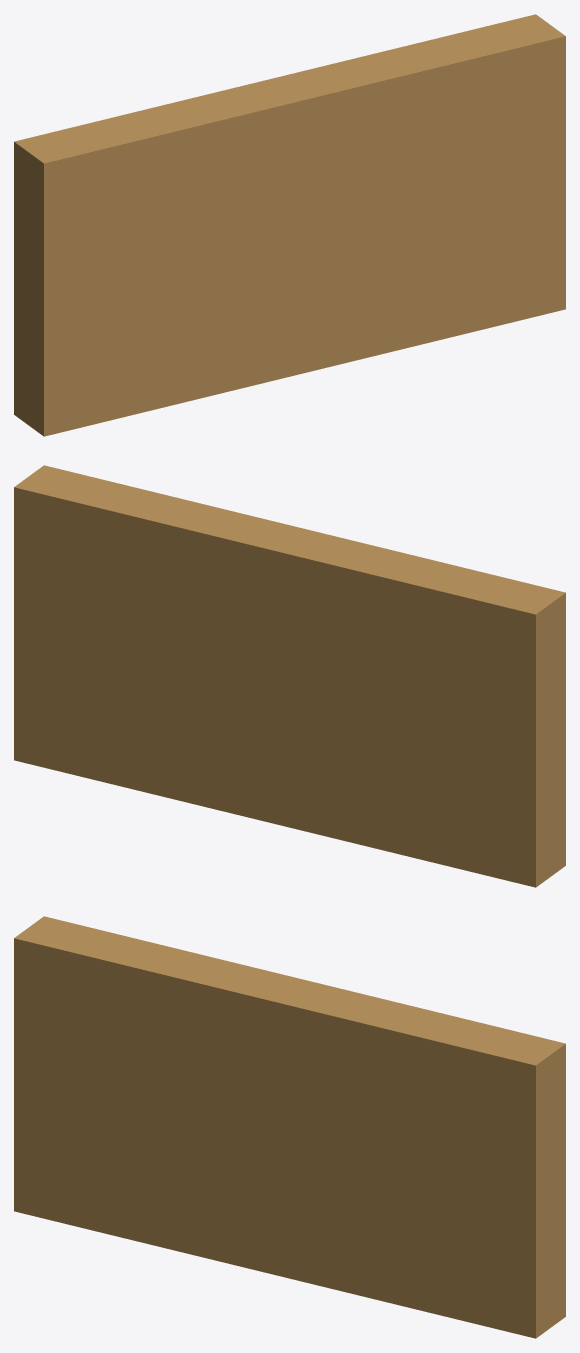
3 views of the same model, one above another, from view 1: azimuth 30°, elevation 25°; view 2: azimuth 150°, elevation 25°; view 3: azimuth 330°, elevation 25° (orthographic).
Parts seen in each view (by area): view 1: RUN-084-S00-NOG-12; view 2: RUN-084-S00-NOG-12; view 3: RUN-084-S00-NOG-12.
Part boxes in pixels (x1,y1,x2,y2): RUN-084-S00-NOG-12: [14, 14, 565, 436]; RUN-084-S00-NOG-12: [14, 465, 565, 887]; RUN-084-S00-NOG-12: [14, 916, 565, 1338].
Size of the model in its own units: 0.09 by 0.045 by 0.00898.
